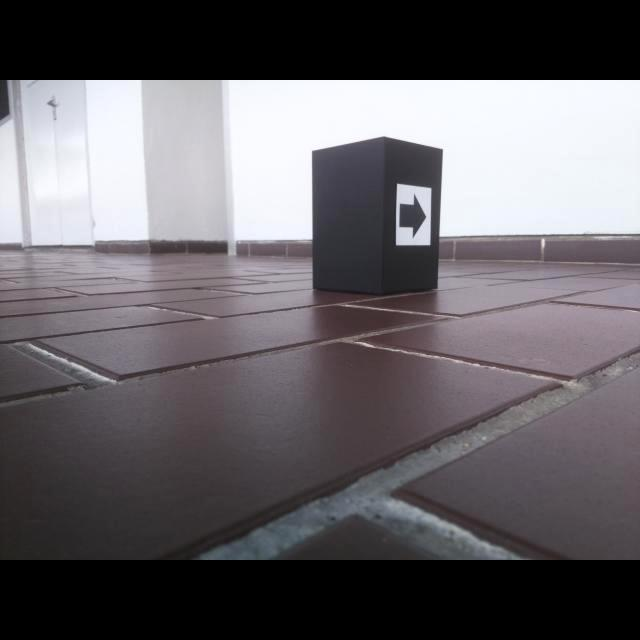RIGHT: (398, 191, 427, 240)
